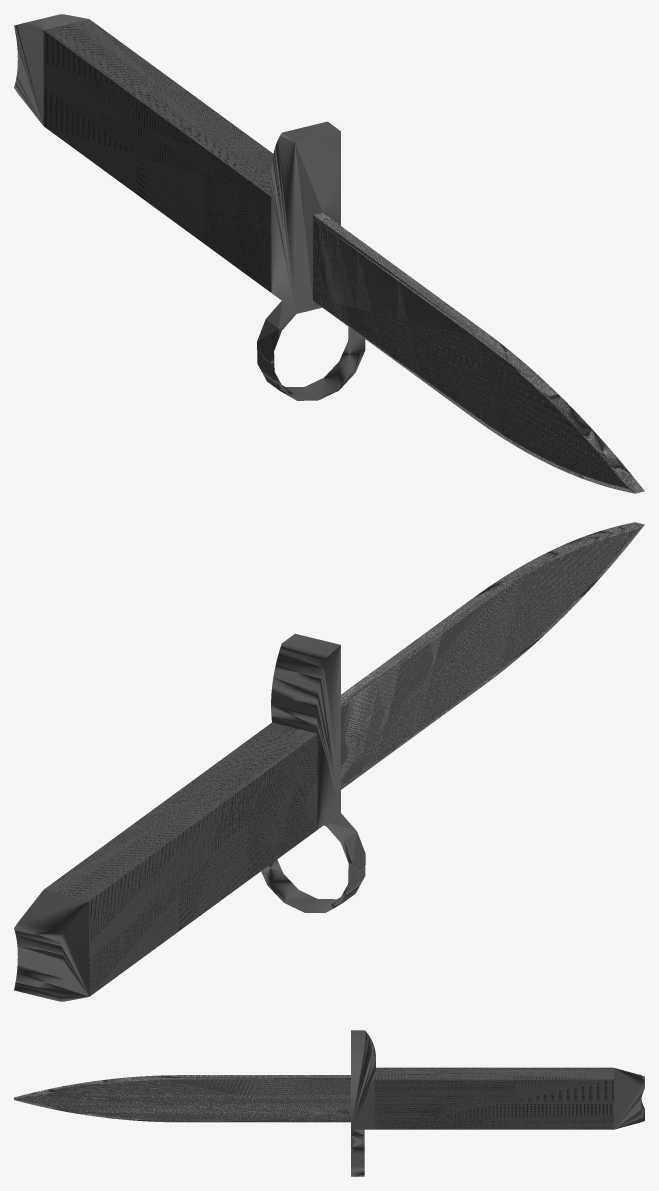
File: model_align.obj
3 views of the same model, one above another, from view 1: azimuth 30°, elevation 25°; view 2: azimuth 150°, elevation 25°; view 3: azimuth 270°, elevation 25° (orthographic). The views are drawn at different scales.
Size of the model in its own units: 0.019 by 0.0501 by 0.2074.
3 materials, 3 textured.
